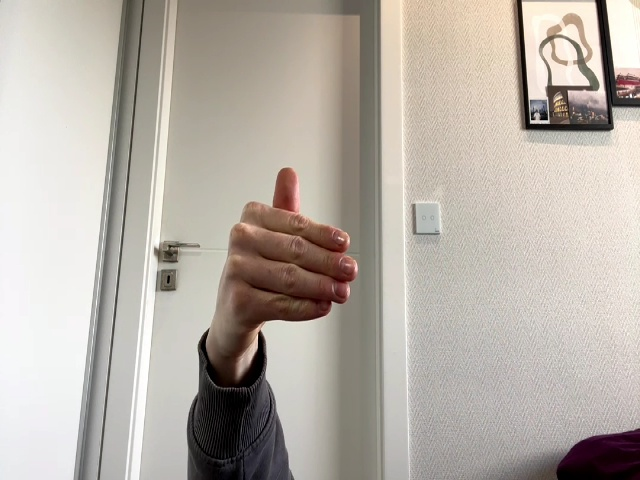M: (219, 168, 358, 353)
